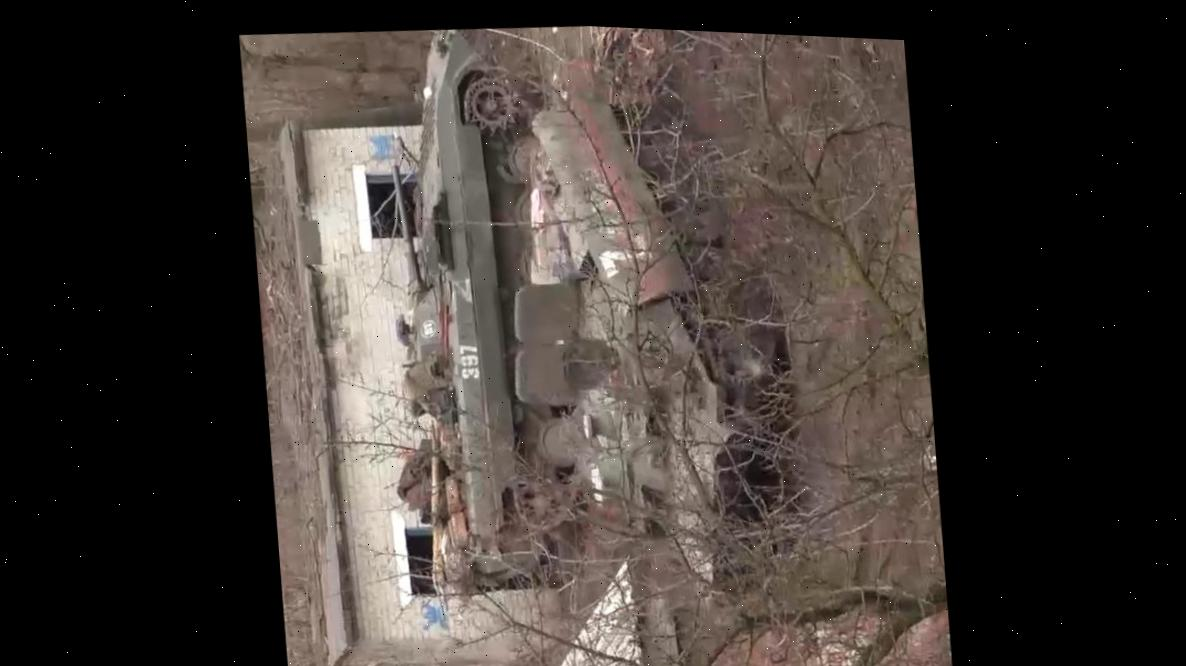tank: (490, 77, 800, 630), (372, 20, 576, 603)
